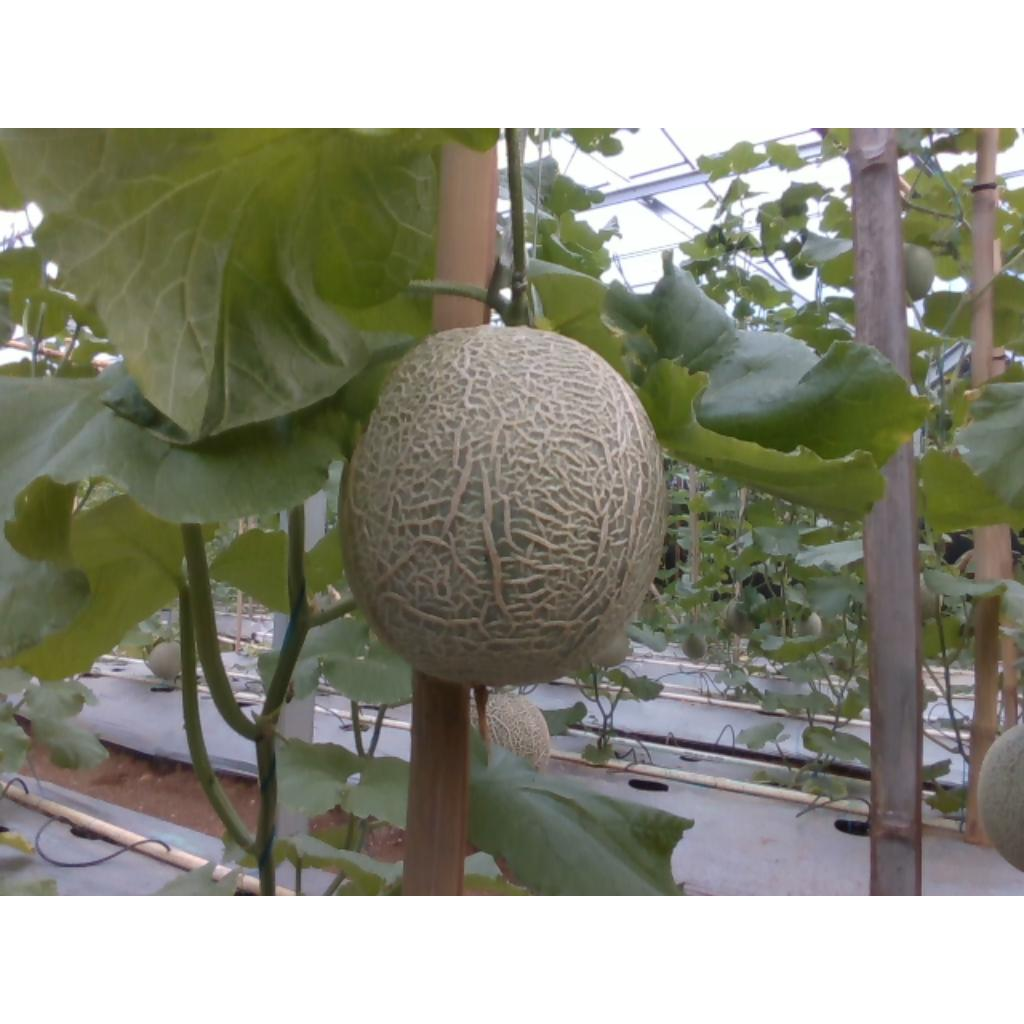melon: (341, 326, 664, 686)
